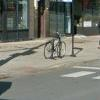Bicycle: (41, 30, 68, 62)
